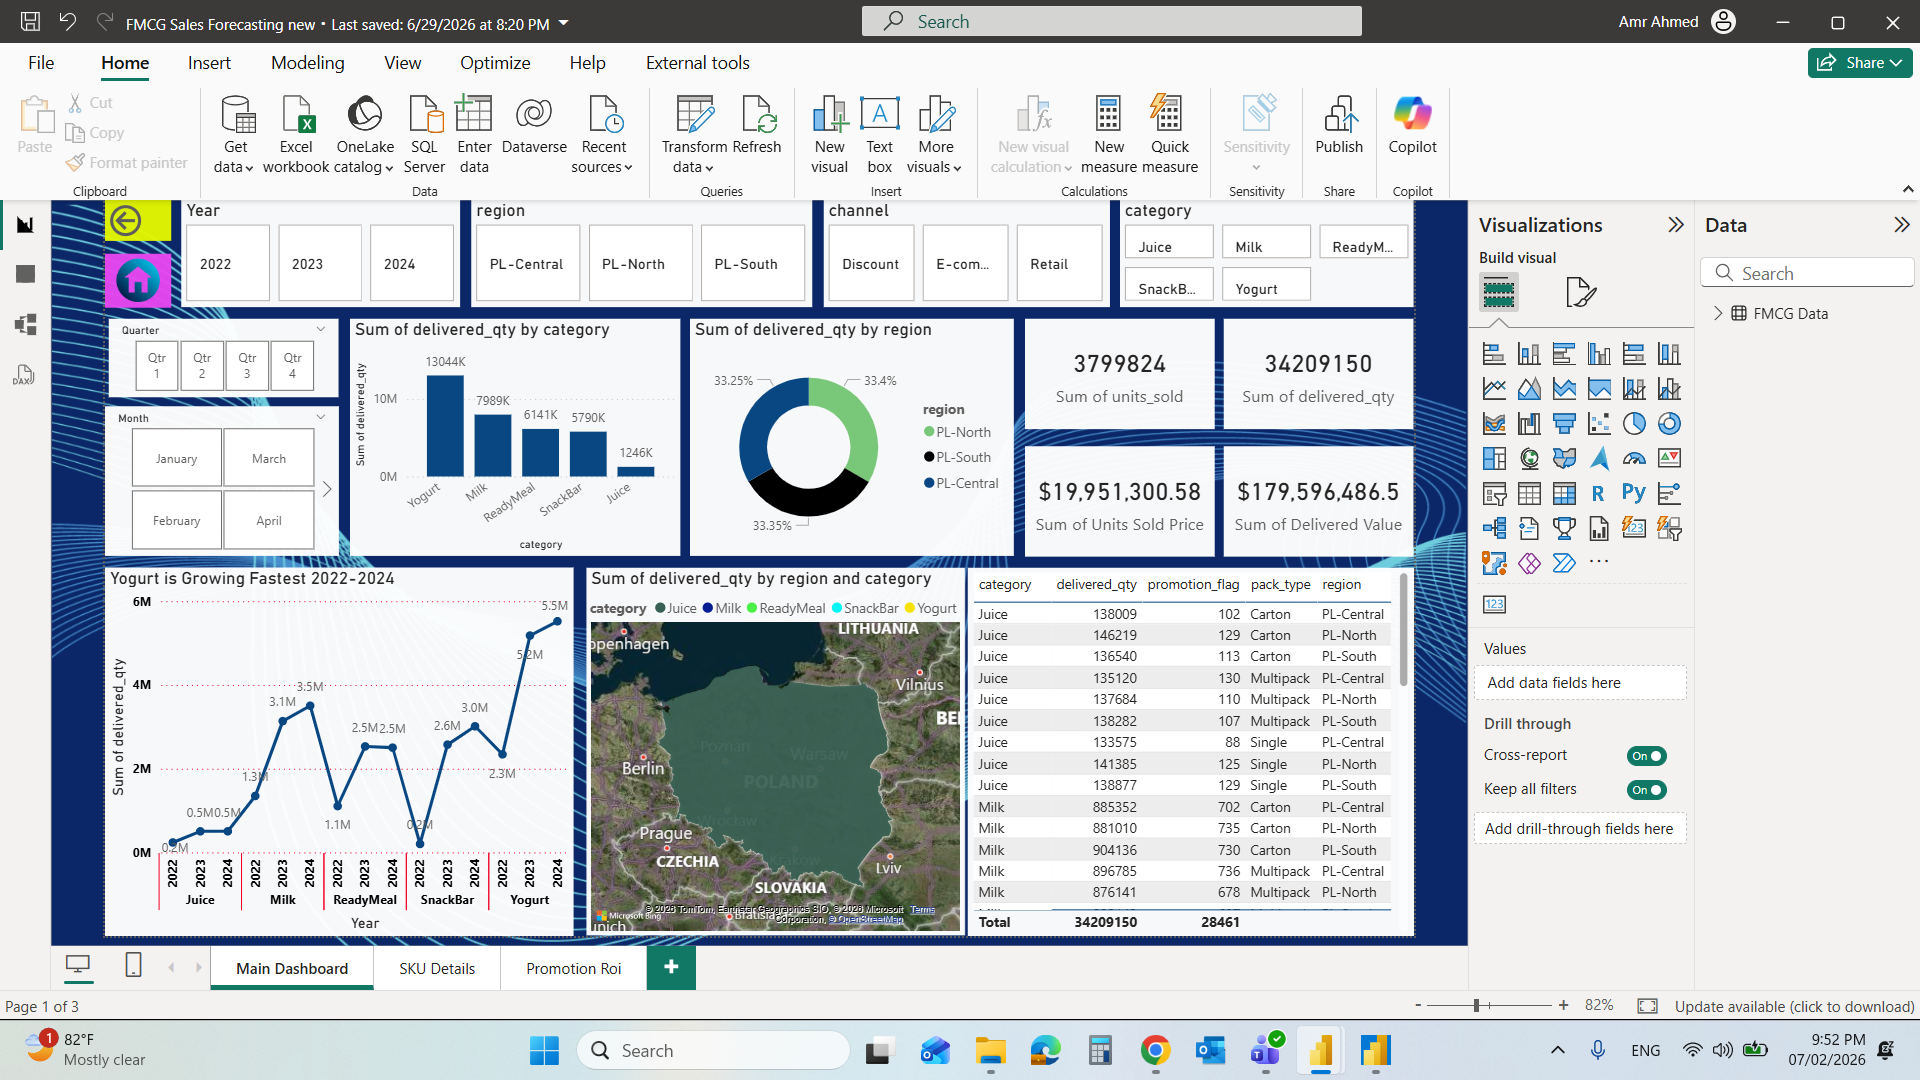

What the dashboard file says about the page in this screenshot:
{"tool":"powerbi","page":{"name":"Main Dashboard","canvas":[1280,720],"ordinal":0},"visuals":[{"type":"advancedSlicerVisual","fields":{"Values":["FMCG_2022_2024.channel"]},"box":[703.1,0,280,105.2],"z":0},{"type":"image","box":[0,52.6,64.8,52.6],"z":1000},{"type":"advancedSlicerVisual","fields":{"Values":["FMCG_2022_2024.region"]},"box":[358.3,0,333.8,105.2],"z":2000},{"type":"advancedSlicerVisual","fields":{"Values":["FMCG_2022_2024.category"]},"box":[992.9,0,287.4,105.2],"z":3000},{"type":"advancedSlicerVisual","fields":{"Values":["FMCG_2022_2024.date.Variation.Date Hierarchy.Year"]},"box":[74.6,0,272.7,105.2],"z":4000},{"type":"slicer","fields":{"Values":["FMCG_2022_2024.date.Variation.Date Hierarchy.Month"]},"box":[0,201.8,228.7,146.7],"z":5000},{"type":"slicer","fields":{"Values":["FMCG_2022_2024.date.Variation.Date Hierarchy.Quarter"]},"box":[3.7,116.2,225,77],"z":6000},{"type":"card","fields":{"Values":["Sum(FMCG_2022_2024.delivered_qty)"]},"box":[1094.4,116.2,185.9,107.6],"z":7000},{"type":"card","fields":{"Values":["Sum(FMCG_2022_2024.Delivered Qty Price)"]},"box":[1094.4,240.9,185.9,107.6],"z":8000},{"type":"card","fields":{"Values":["Sum(FMCG_2022_2024.units_sold)"]},"box":[900,116.2,185.9,107.6],"z":9000},{"type":"card","fields":{"Values":["Sum(FMCG_2022_2024.Units Sold Price)"]},"box":[900,240.9,185.9,107.6],"z":10000},{"type":"tableEx","fields":{"Values":["FMCG_2022_2024.category","Sum(FMCG_2022_2024.delivered_qty)","Sum(FMCG_2022_2024.promotion_flag)","FMCG_2022_2024.pack_type","FMCG_2022_2024.region"]},"box":[843.8,359.5,436.6,360.7],"z":11000},{"type":"columnChart","fields":{"Y":["Sum(FMCG_2022_2024.delivered_qty)"],"Category":["FMCG_2022_2024.category"]},"box":[239.7,116.2,322.8,232.3],"z":12000},{"type":"donutChart","fields":{"Category":["FMCG_2022_2024.region"],"Y":["Sum(FMCG_2022_2024.delivered_qty)"]},"box":[572.3,116.2,316.7,232.3],"z":13000},{"type":"filledMap","fields":{"Series":["FMCG_2022_2024.category"],"Category":["FMCG_2022_2024.region"]},"box":[470.2,360,370.8,360],"z":14000},{"type":"lineChart","title":"Yogurt is Growing Fastest 2022-2024","fields":{"Y":["Sum(FMCG_2022_2024.delivered_qty)"],"Category":["FMCG_2022_2024.category","FMCG_2022_2024.date.Variation.Date Hierarchy.Year","FMCG_2022_2024.date.Variation.Date Hierarchy.Month"]},"box":[0,359.5,458.6,360.7],"z":15000},{"type":"actionButton","box":[0,0,64.8,40.4],"z":16000}]}

Visuals, with their boxes on the page's 1280x720 design canvas (x1, y1, x2, y2). These are canvas units, not pixel positions in the 1920x1080 screenshot, which may show the page scaled, cropped or inside an application window:
advancedSlicerVisual - FMCG_2022_2024.channel: {"x1": 703, "y1": 0, "x2": 983, "y2": 105}
image: {"x1": 0, "y1": 53, "x2": 65, "y2": 105}
advancedSlicerVisual - FMCG_2022_2024.region: {"x1": 358, "y1": 0, "x2": 692, "y2": 105}
advancedSlicerVisual - FMCG_2022_2024.category: {"x1": 993, "y1": 0, "x2": 1280, "y2": 105}
advancedSlicerVisual - FMCG_2022_2024.date.Variation.Date Hierarchy.Year: {"x1": 75, "y1": 0, "x2": 347, "y2": 105}
slicer - FMCG_2022_2024.date.Variation.Date Hierarchy.Month: {"x1": 0, "y1": 202, "x2": 229, "y2": 348}
slicer - FMCG_2022_2024.date.Variation.Date Hierarchy.Quarter: {"x1": 4, "y1": 116, "x2": 229, "y2": 193}
card - Sum(FMCG_2022_2024.delivered_qty): {"x1": 1094, "y1": 116, "x2": 1280, "y2": 224}
card - Sum(FMCG_2022_2024.Delivered Qty Price): {"x1": 1094, "y1": 241, "x2": 1280, "y2": 348}
card - Sum(FMCG_2022_2024.units_sold): {"x1": 900, "y1": 116, "x2": 1086, "y2": 224}
card - Sum(FMCG_2022_2024.Units Sold Price): {"x1": 900, "y1": 241, "x2": 1086, "y2": 348}
tableEx - FMCG_2022_2024.category x Sum(FMCG_2022_2024.delivered_qty): {"x1": 844, "y1": 360, "x2": 1280, "y2": 720}
columnChart - Sum(FMCG_2022_2024.delivered_qty) x FMCG_2022_2024.category: {"x1": 240, "y1": 116, "x2": 562, "y2": 348}
donutChart - FMCG_2022_2024.region x Sum(FMCG_2022_2024.delivered_qty): {"x1": 572, "y1": 116, "x2": 889, "y2": 348}
filledMap - FMCG_2022_2024.category x FMCG_2022_2024.region: {"x1": 470, "y1": 360, "x2": 841, "y2": 720}
"Yogurt is Growing Fastest 2022-2024" lineChart: {"x1": 0, "y1": 360, "x2": 459, "y2": 720}
actionButton: {"x1": 0, "y1": 0, "x2": 65, "y2": 40}
